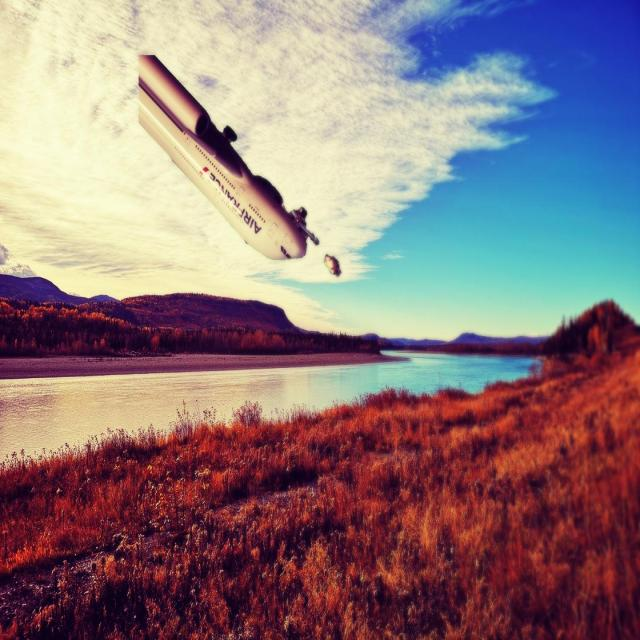airplane: (137, 52, 321, 262)
